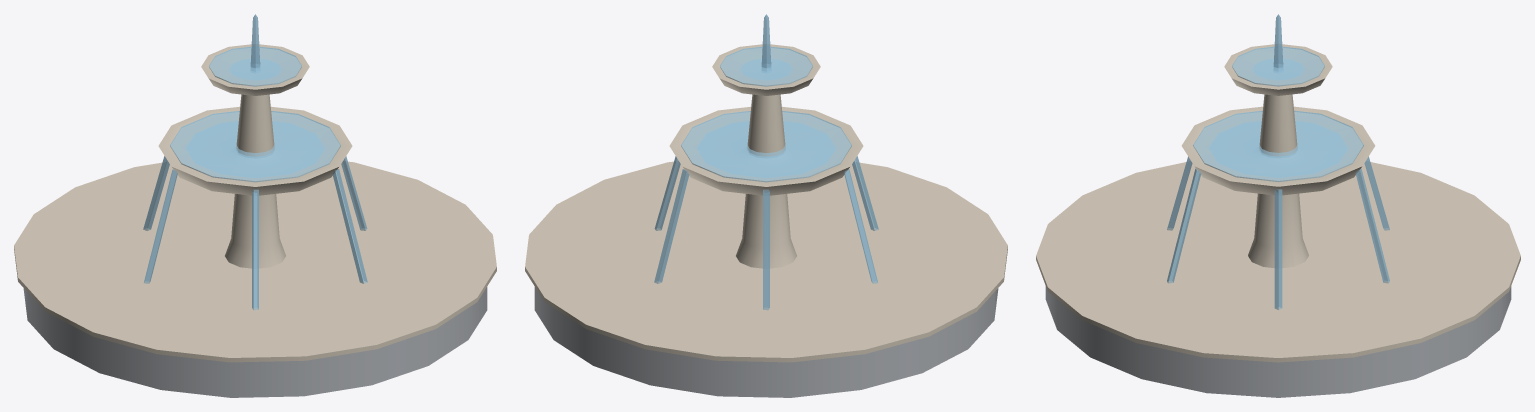
The model's file is fountain.glb.
The picture shows the model from 3 angles, left to right: view 1: azimuth 30°, elevation 25°; view 2: azimuth 150°, elevation 25°; view 3: azimuth 270°, elevation 25°; orthographic projection.
Parts seen in each view (by area): view 1: fountain; view 2: fountain; view 3: fountain.
Boxes of the visible parts, x1,y1,x2,y2 form: fountain: (14,14,496,397); fountain: (525,14,1007,397); fountain: (1036,14,1520,397).
Size of the model in its own units: 5 by 3.25 by 5.
